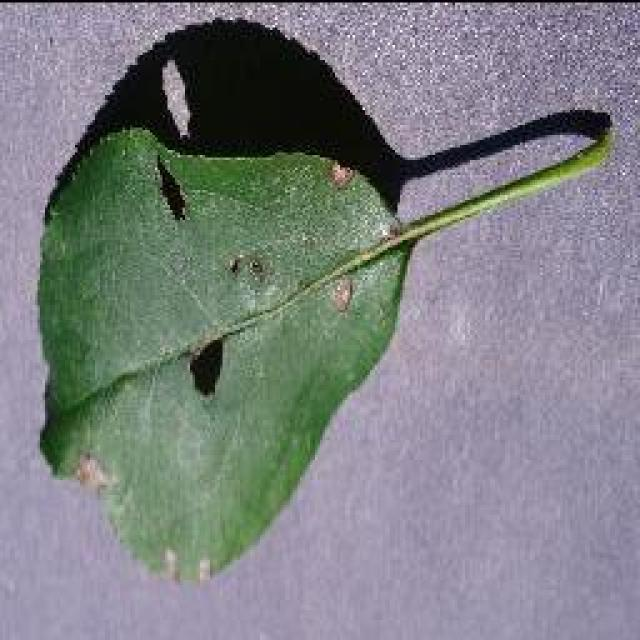Black_rot: (35, 123, 413, 585)
